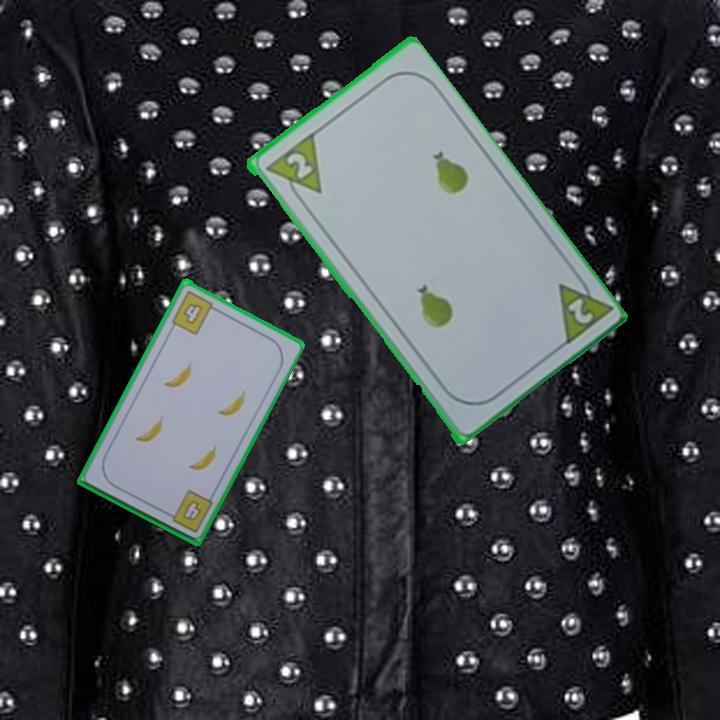2p: (553, 267, 613, 350), (281, 148, 315, 183)
4b: (168, 286, 221, 337), (179, 496, 204, 523)
